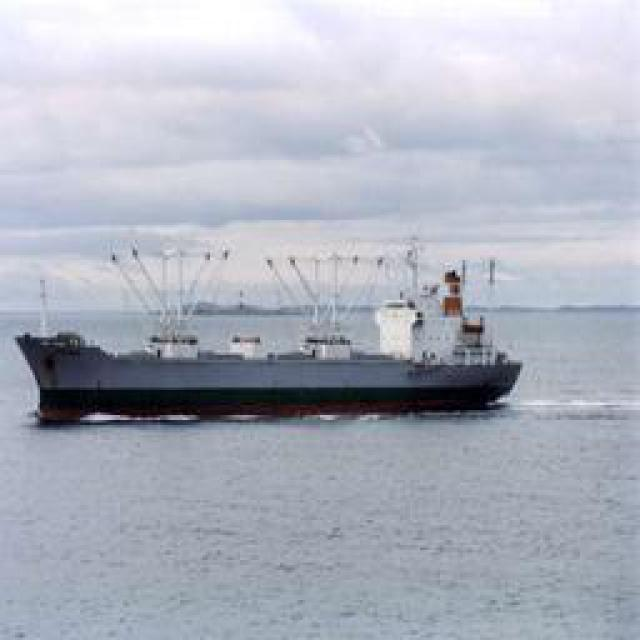Ship: (24, 285, 527, 418)
